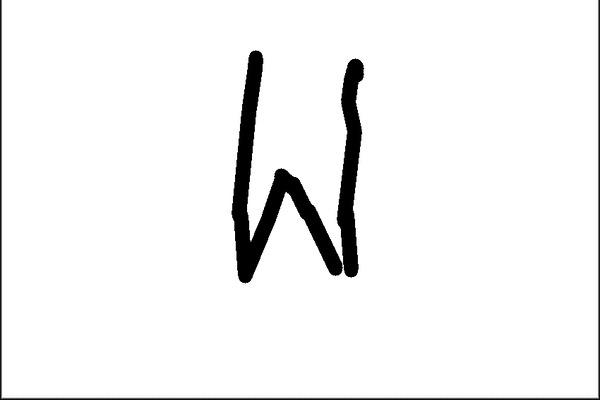w: (208, 39, 415, 338)
